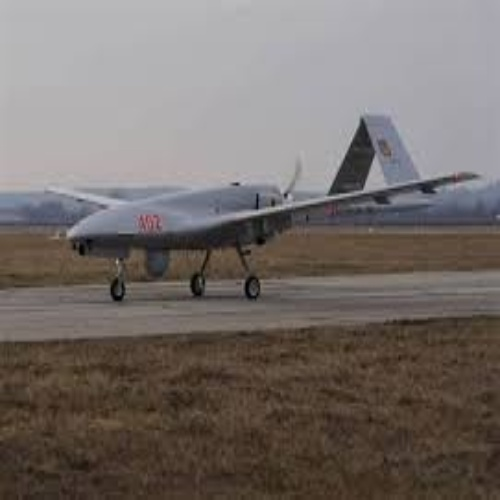uav285: (41, 113, 481, 300)
